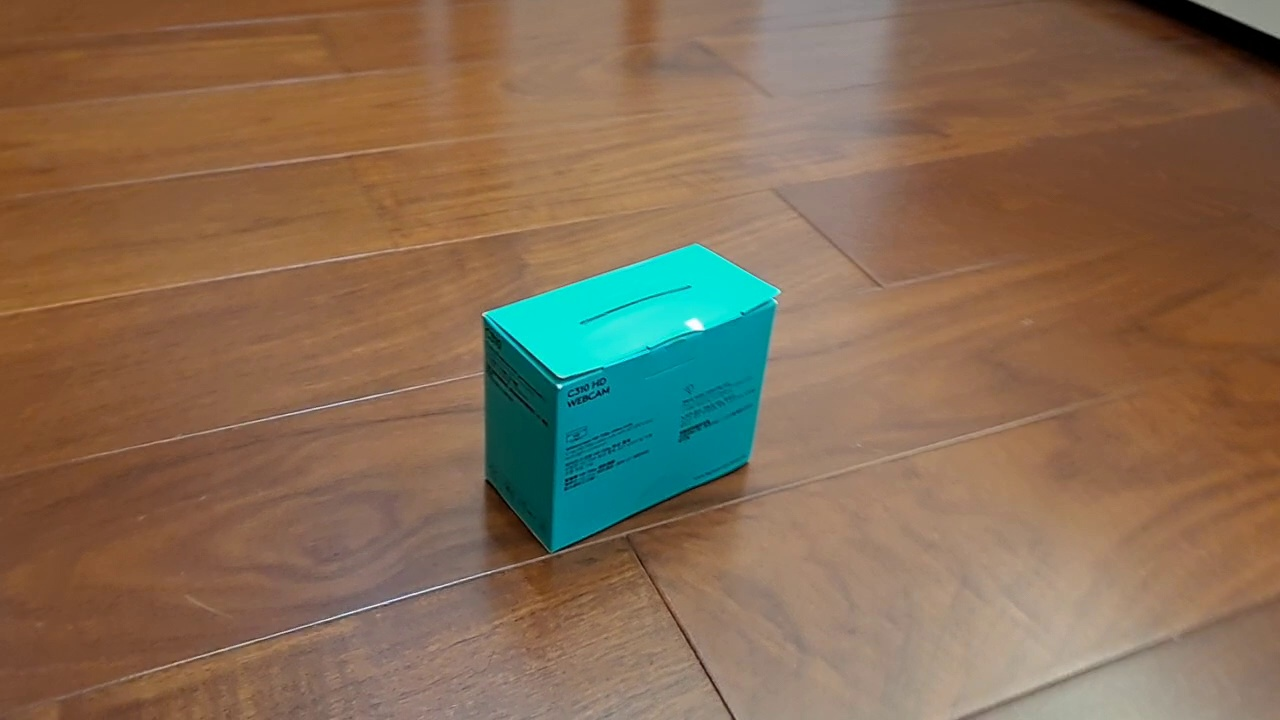webcam: (479, 241, 783, 556)
